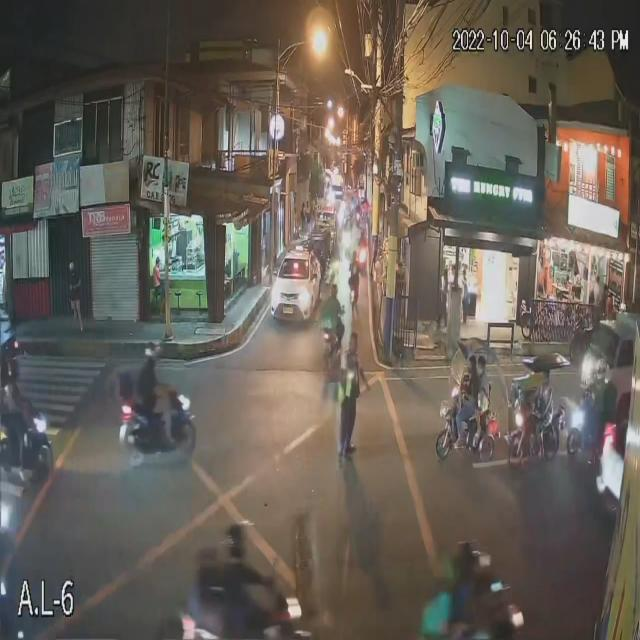Full-Faced: (223, 518, 256, 563), (447, 535, 476, 582), (140, 342, 161, 368), (328, 279, 341, 298)
